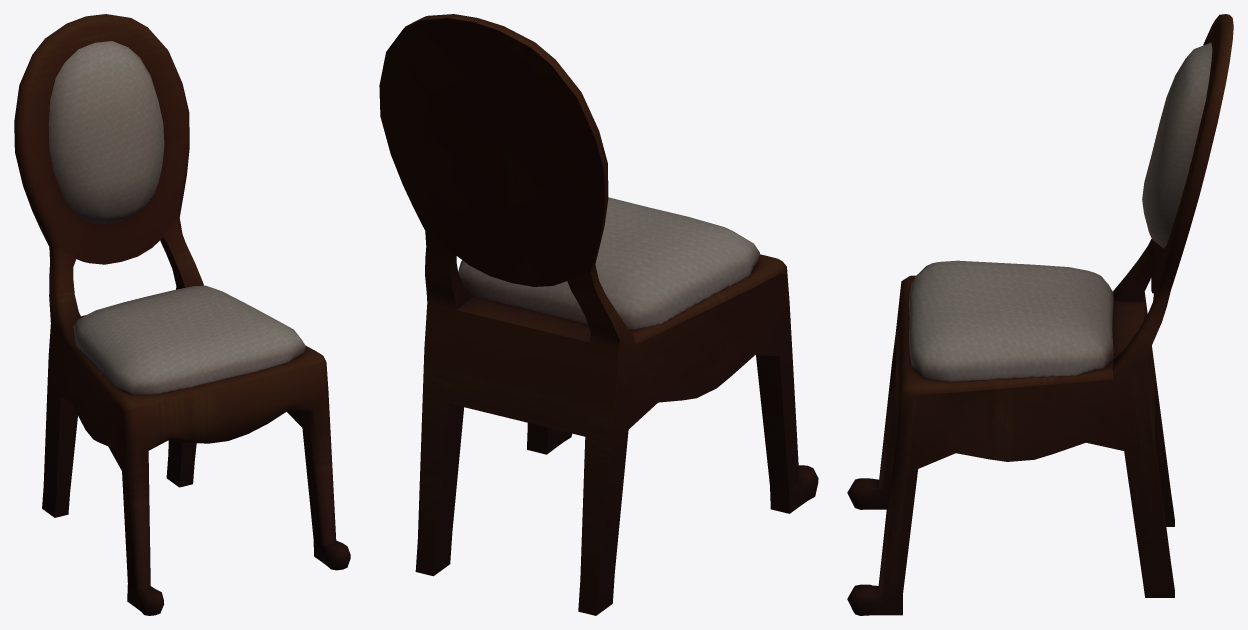
Rendered from Lv1_Silla.fbx.
3 views of the same model, side by side, from view 1: azimuth 30°, elevation 25°; view 2: azimuth 150°, elevation 25°; view 3: azimuth 270°, elevation 25° (orthographic). The views are drawn at different scales.
Parts seen in each view (by area): view 1: Lv1_Silla; view 2: Lv1_Silla; view 3: Lv1_Silla.
Boxes of the visible parts, x1=… form: Lv1_Silla: x1=14, y1=14, x2=350, y2=615; Lv1_Silla: x1=379, y1=14, x2=818, y2=615; Lv1_Silla: x1=847, y1=14, x2=1233, y2=615.
Bounding box in the file's own units: 50.67 × 107 × 70.09.
Materials: 1 (1 with a texture image).
